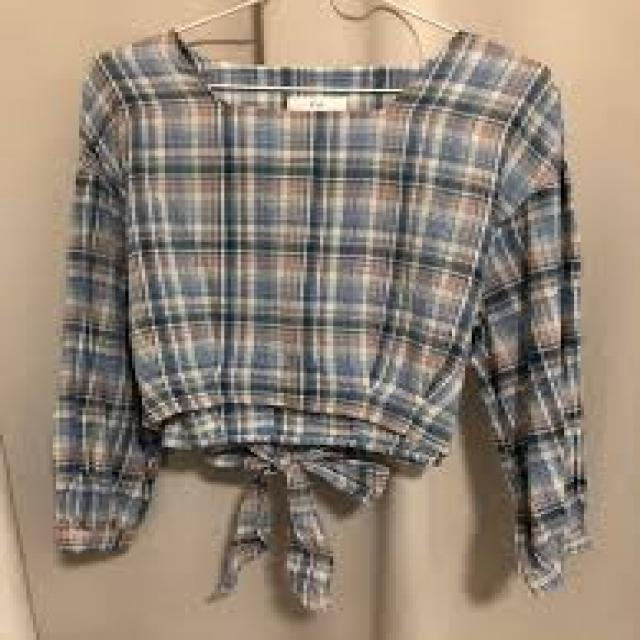plaid: (54, 16, 629, 607)
